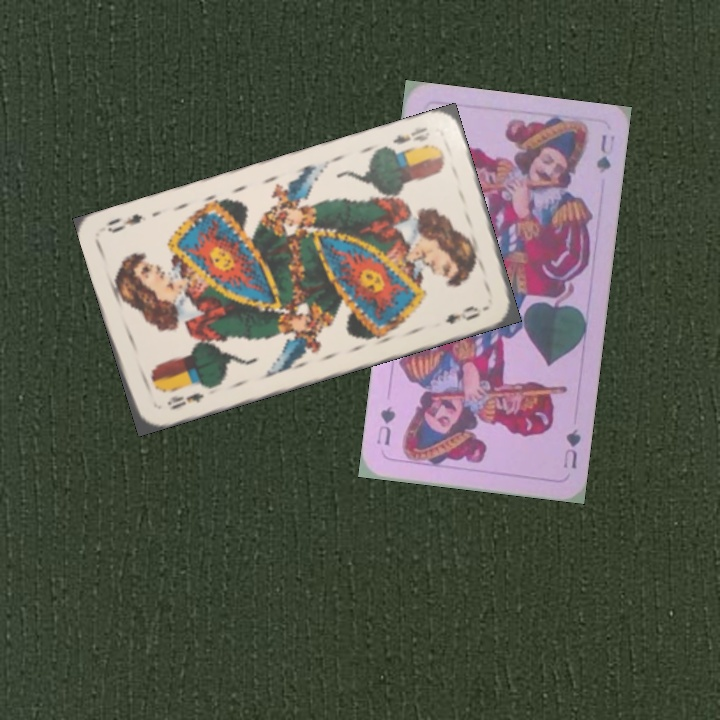EO: (388, 123, 433, 147), (163, 388, 206, 412)
GU: (559, 425, 584, 471)
